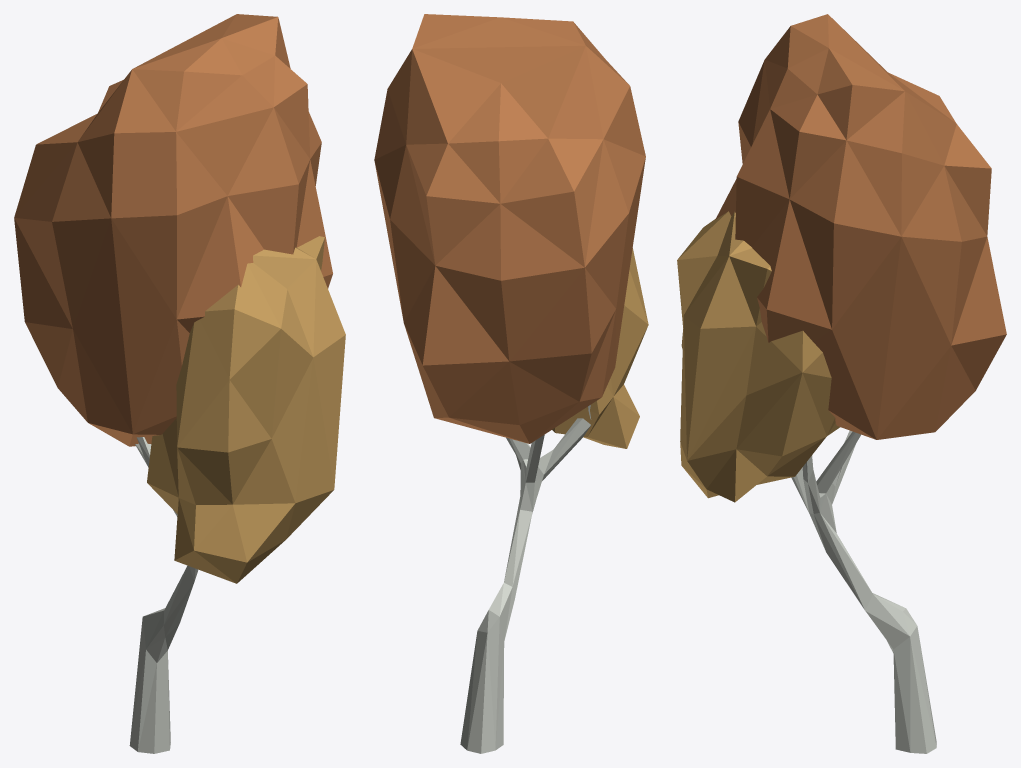
File: BirchTree_Autumn_2.lod2.glb
3 renders of one model, left to right at view 1: azimuth 30°, elevation 25°; view 2: azimuth 150°, elevation 25°; view 3: azimuth 270°, elevation 25°, orthographic. The views are drawn at different scales.
Parts seen in each view (by area): view 1: BirchTree_Autumn_2; view 2: BirchTree_Autumn_2; view 3: BirchTree_Autumn_2.
Boxes of the visible parts, x1,y1,x2,y2 form: BirchTree_Autumn_2: (14,14,345,753); BirchTree_Autumn_2: (374,14,648,753); BirchTree_Autumn_2: (677,14,1006,753).
Bounding box in the file's own units: 1.47 × 4.03 × 1.7.
